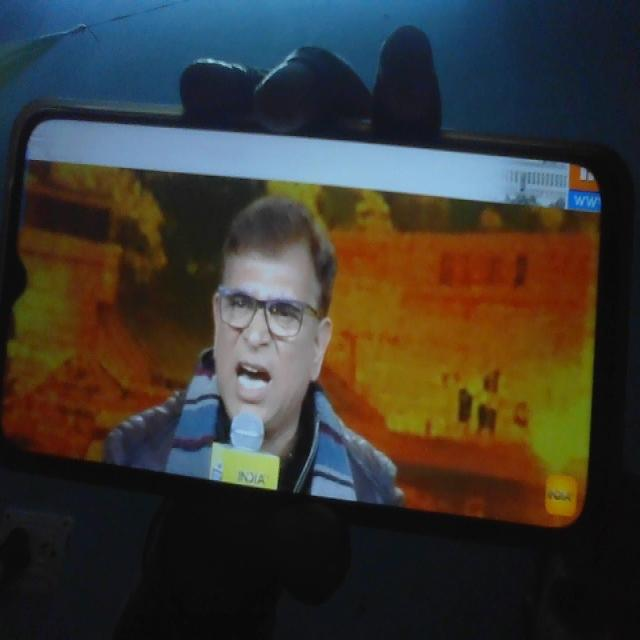fake: (195, 190, 341, 466)
